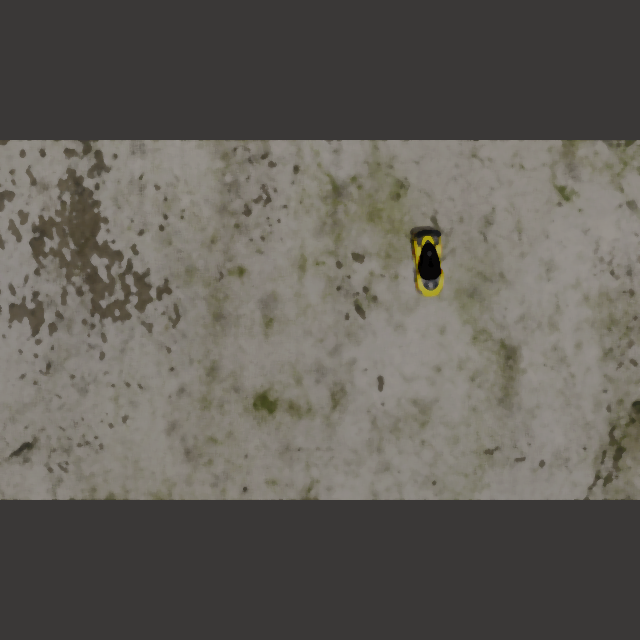car: (409, 228, 448, 298)
